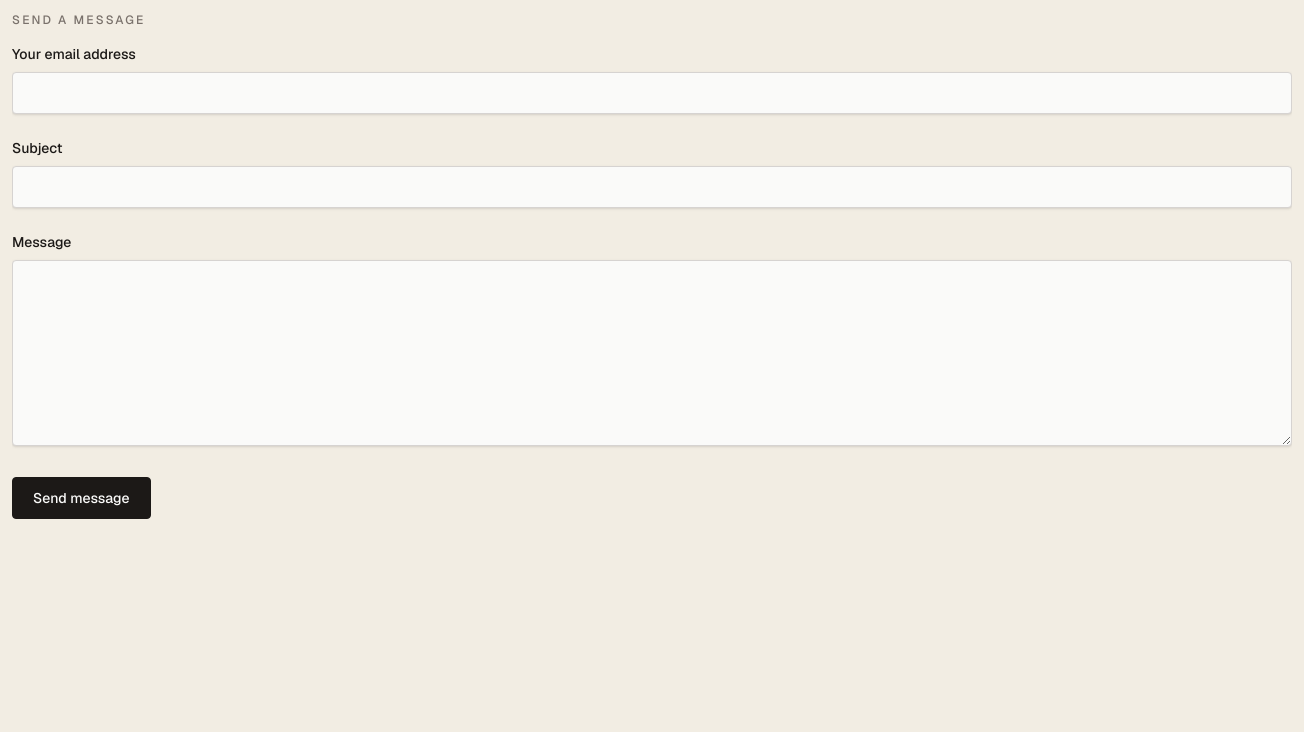
Test: ContactForm › keeps the form available and reports a provider failure
Type "visitor@example.com" into the field labelled "Your email address" at (652, 93), box [12,72,1292,114]
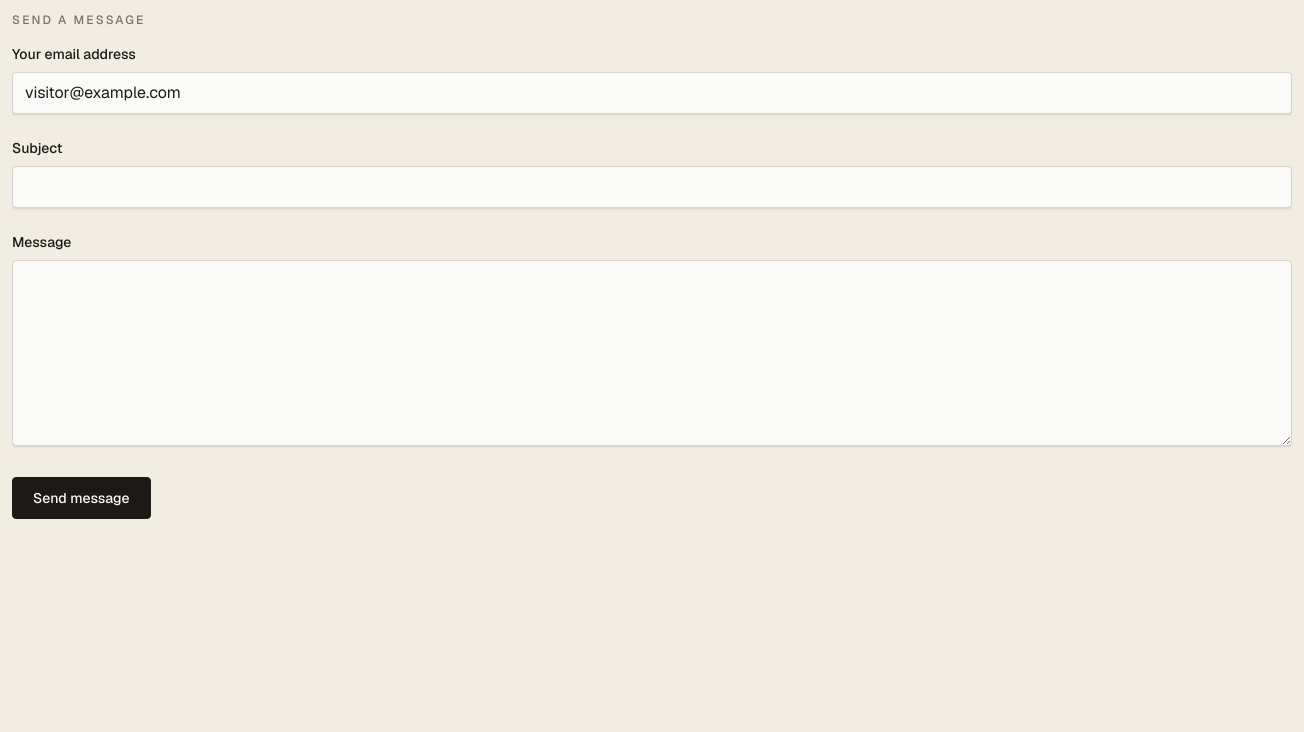
Type "A project idea" into the field labelled "Subject" at (652, 187), box [12,166,1292,208]
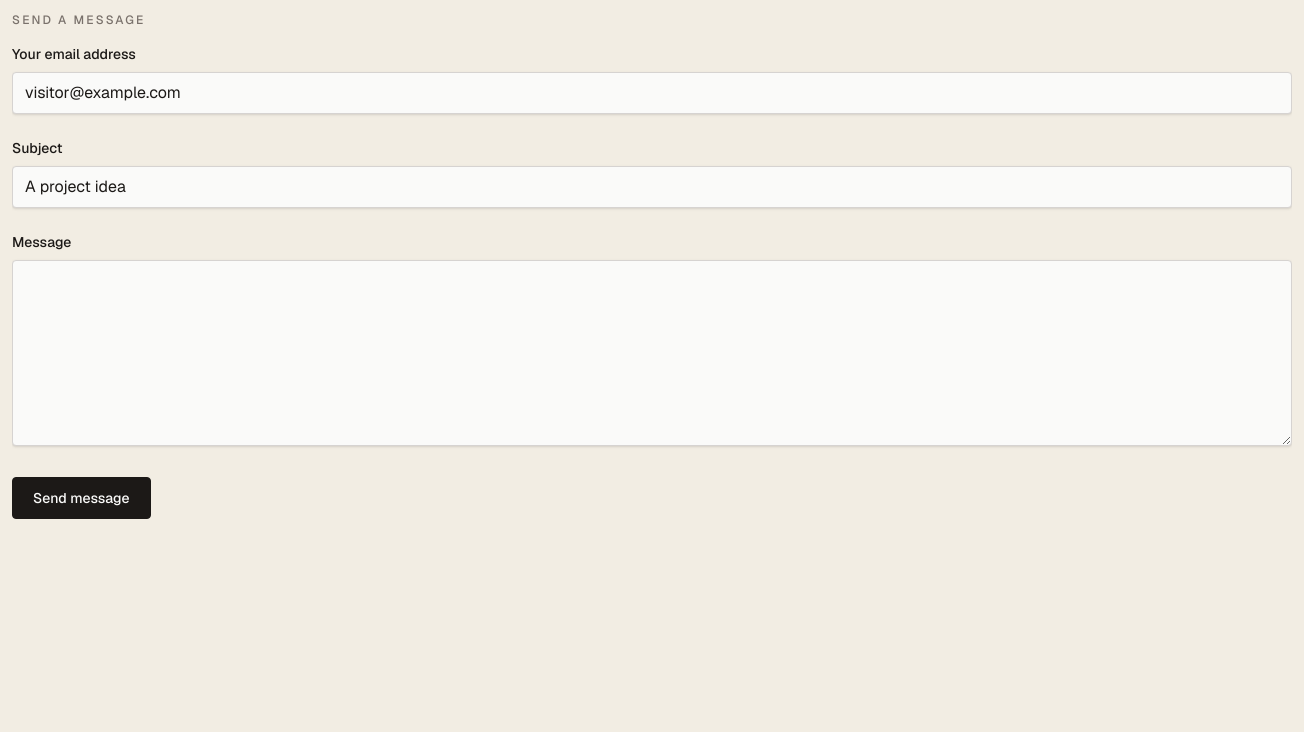
Type "Can we talk?" into the text box labelled "Message" at (652, 353), box [12,260,1292,446]
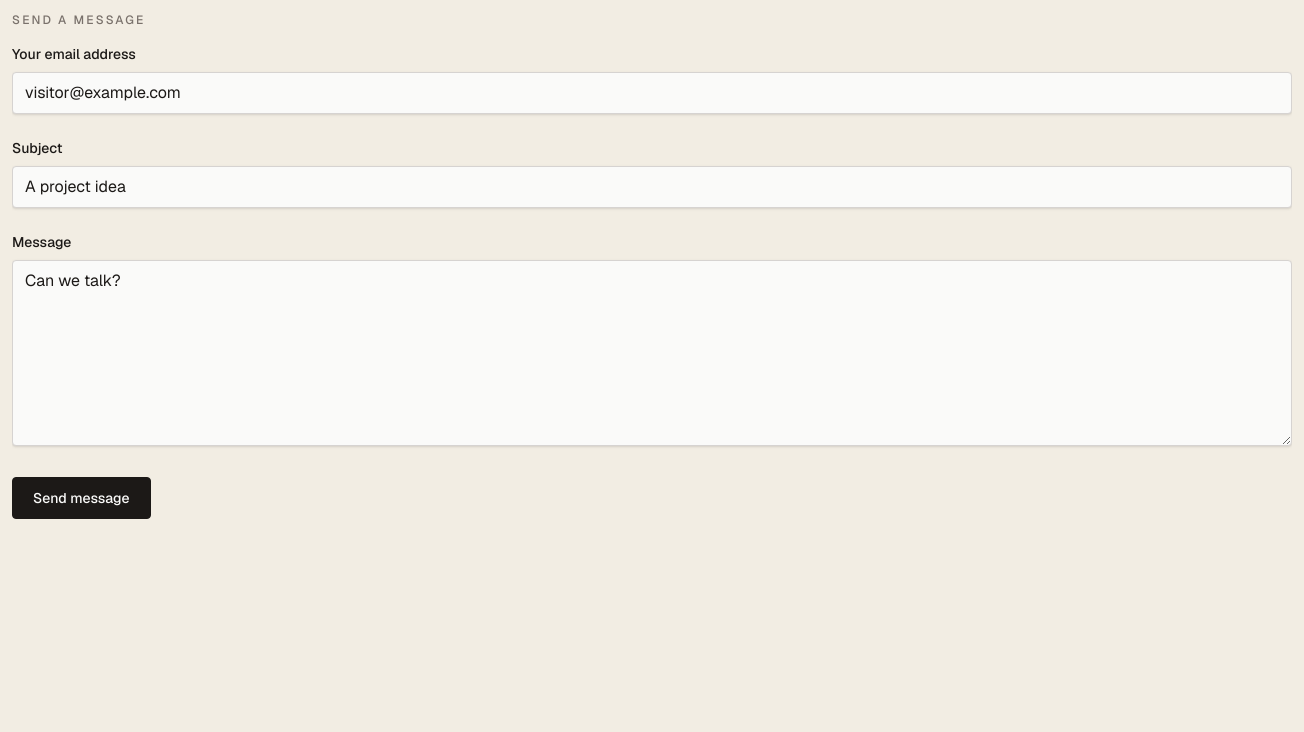
Click the button "Send message" at (81, 498), box [12,477,150,519]
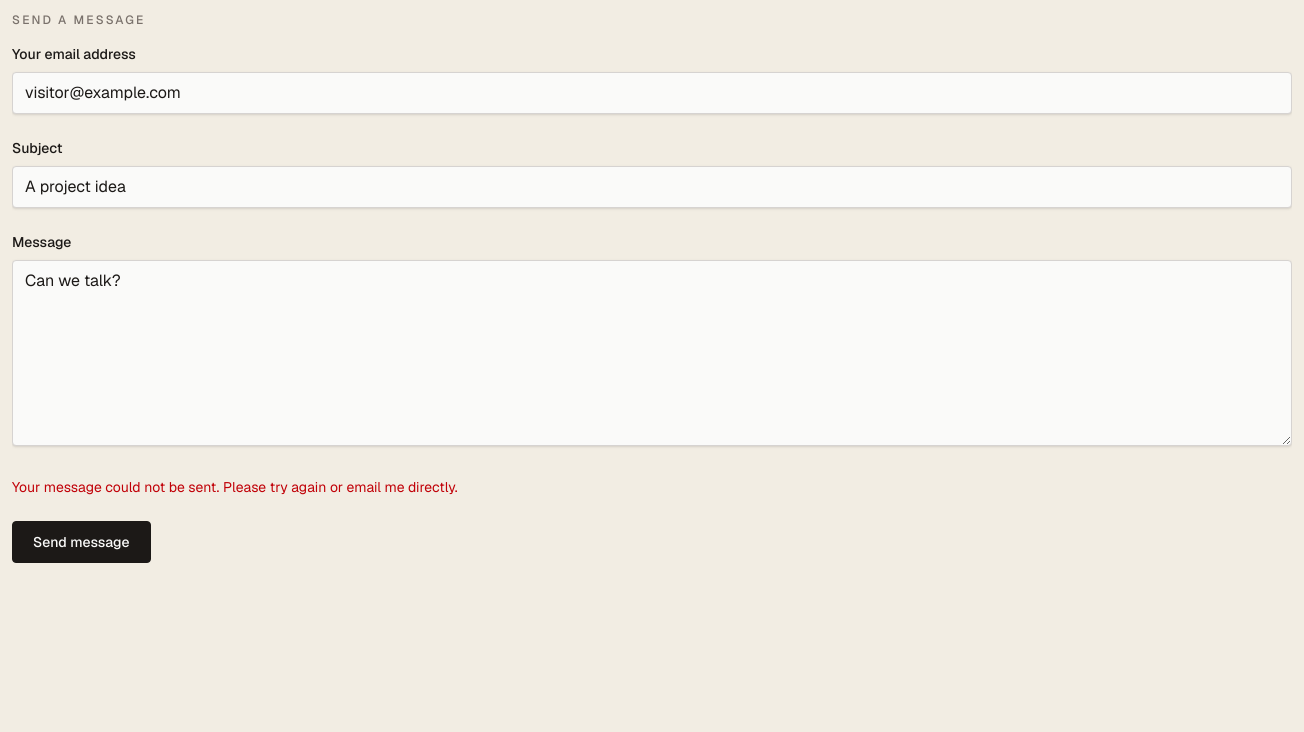
Check: the button "Send message" is enabled, box [12,521,150,563]
Check: the message shows "Your message could not be sent.", box [12,478,458,496]
